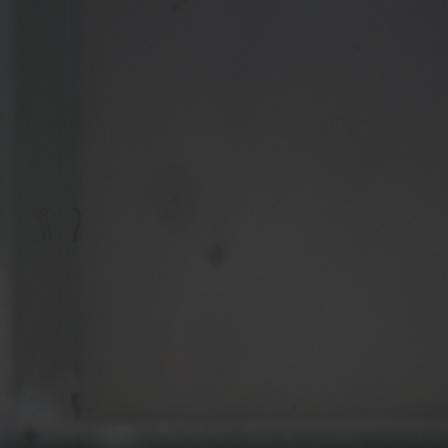Jentik-Nyamuk: (70, 204, 84, 242)
